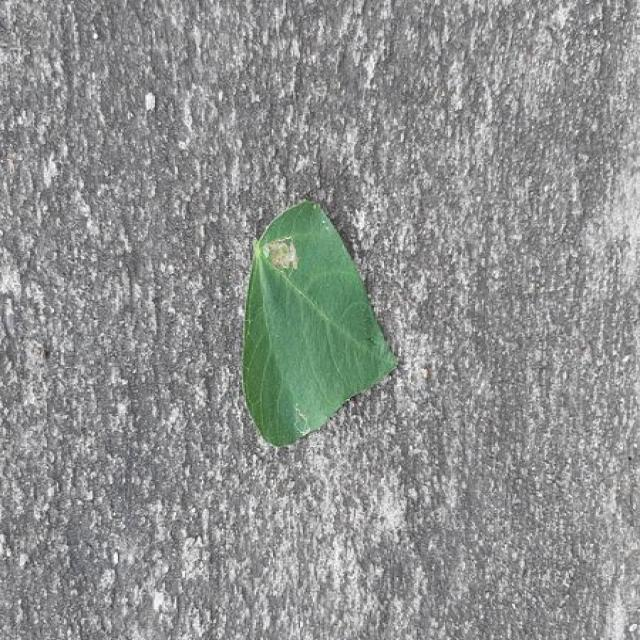beans: (247, 201, 397, 446)
defectedbeans: (250, 201, 328, 311)
